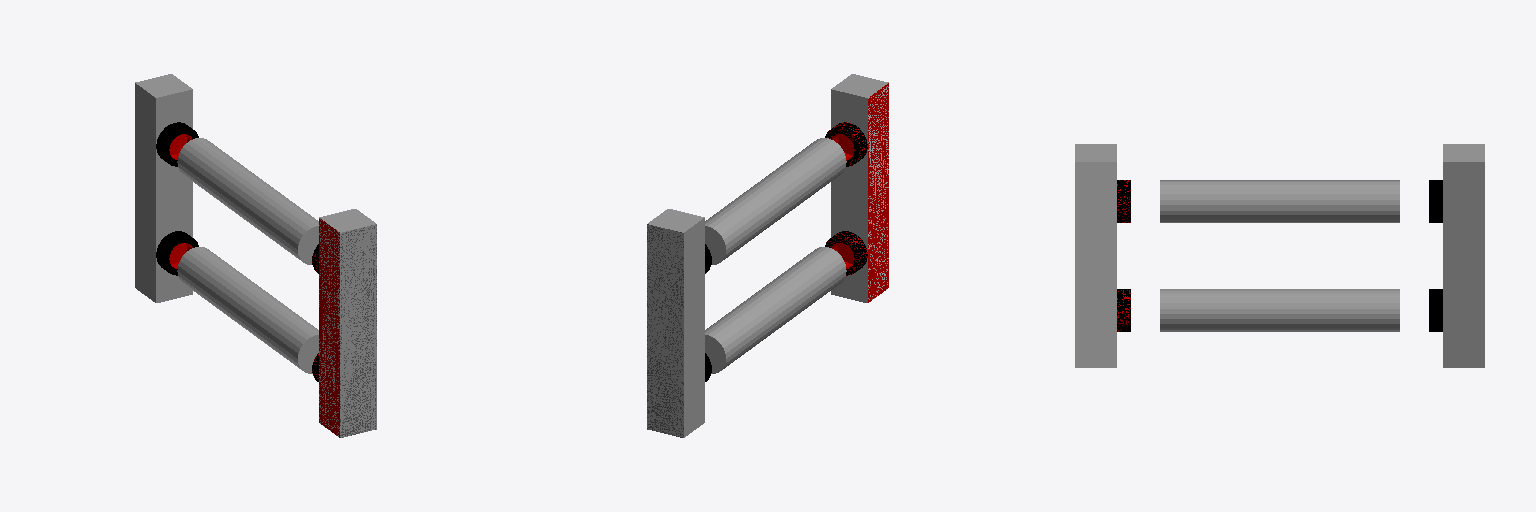
File: futureWall.obj
The picture shows the model from 3 angles: view 1: azimuth 30°, elevation 25°; view 2: azimuth 150°, elevation 25°; view 3: azimuth 270°, elevation 25°; orthographic projection.
Parts seen in each view (by area): view 1: Mesh.002_ID18, Mesh.008_ID67, Mesh.016_ID141, Mesh.014_ID120, Mesh.017_ID149, Mesh.003_ID31, Mesh.001_ID10, Mesh.010_ID83, Mesh.013_ID112, Mesh.015_ID133; view 2: Mesh.004_ID37, Mesh.016_ID141, Mesh.014_ID120, Mesh.002_ID18, Mesh.017_ID149, Mesh.006_ID53, Mesh.010_ID83, Mesh.009_ID75, Mesh.021_ID175, Mesh.007_ID61, Mesh.011_ID91, Mesh.012_ID104; view 3: Mesh.016_ID141, Mesh.014_ID120, Mesh.002_ID18, Mesh.019_ID163, Mesh.010_ID83, Mesh.021_ID175, Mesh.007_ID61, Mesh.003_ID31, Mesh.001_ID10.
Part boxes in pixels (x1,y1,x2,y2): Mesh.002_ID18: (135,74,192,302); Mesh.008_ID67: (340,224,376,437); Mesh.016_ID141: (177,247,318,370); Mesh.014_ID120: (177,138,318,259); Mesh.017_ID149: (319,218,339,437); Mesh.003_ID31: (156,231,198,275); Mesh.001_ID10: (156,122,198,166); Mesh.010_ID83: (319,209,375,232); Mesh.013_ID112: (298,226,318,264); Mesh.015_ID133: (298,335,318,373); Mesh.004_ID37: (647,224,683,437); Mesh.016_ID141: (705,247,846,370); Mesh.014_ID120: (705,138,846,259); Mesh.002_ID18: (648,209,704,437); Mesh.017_ID149: (868,83,888,302); Mesh.006_ID53: (831,149,867,251); Mesh.010_ID83: (831,74,888,143); Mesh.009_ID75: (831,258,867,302); Mesh.021_ID175: (825,231,867,275); Mesh.007_ID61: (825,122,867,166); Mesh.011_ID91: (705,226,725,264); Mesh.012_ID104: (705,335,725,373); Mesh.016_ID141: (1160,289,1399,331); Mesh.014_ID120: (1160,180,1399,222); Mesh.002_ID18: (1443,144,1484,367); Mesh.019_ID163: (1075,162,1116,367); Mesh.010_ID83: (1075,144,1116,161); Mesh.021_ID175: (1117,289,1130,331); Mesh.007_ID61: (1117,180,1130,222); Mesh.003_ID31: (1429,289,1442,331); Mesh.001_ID10: (1429,180,1442,222).
Bounding box in the file's own units: 1.18 × 6.3 × 11.42.